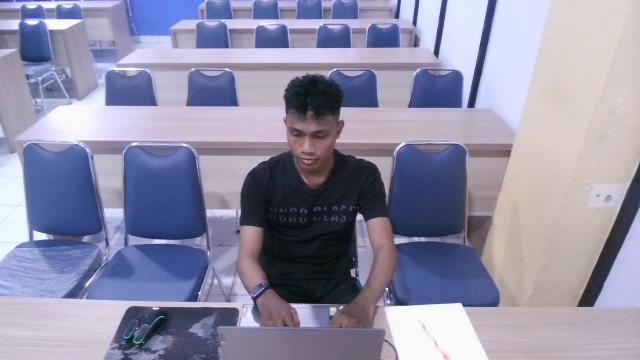Normal_Focus: (205, 62, 410, 360)
